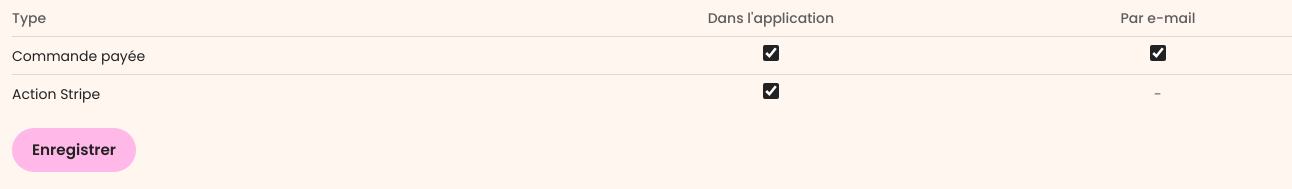
Test: préférences de notification › notifications coupées envoyées par type ; un type sans e-mail possible n'en propose pas
Click the checkbox named "Commande payée : Dans l'application" at (771, 53), box [763, 45, 779, 61]
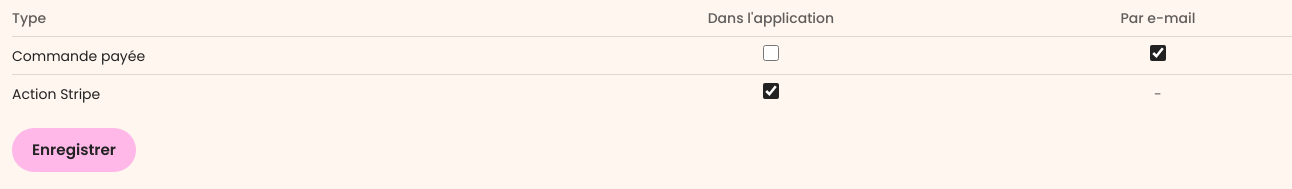
Click the checkbox named "Commande payée : Par e-mail" at (1158, 53), box [1150, 45, 1166, 61]
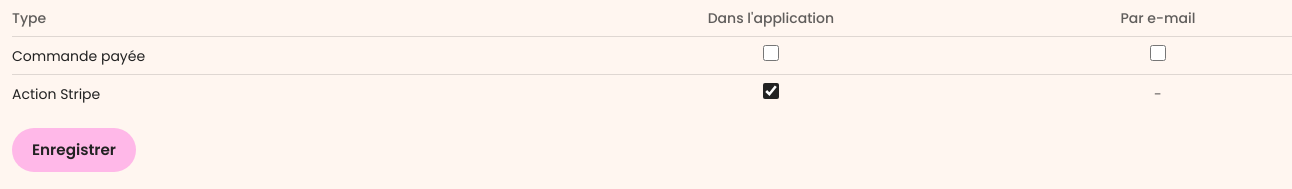
Submit the form "Enregistrer"
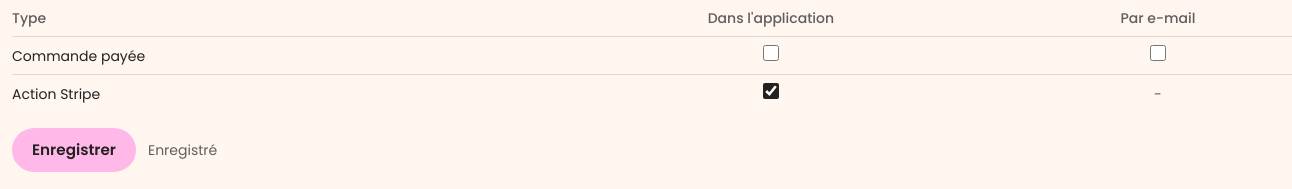
Check: the message reads "Enregistré", box [148, 140, 217, 160]
